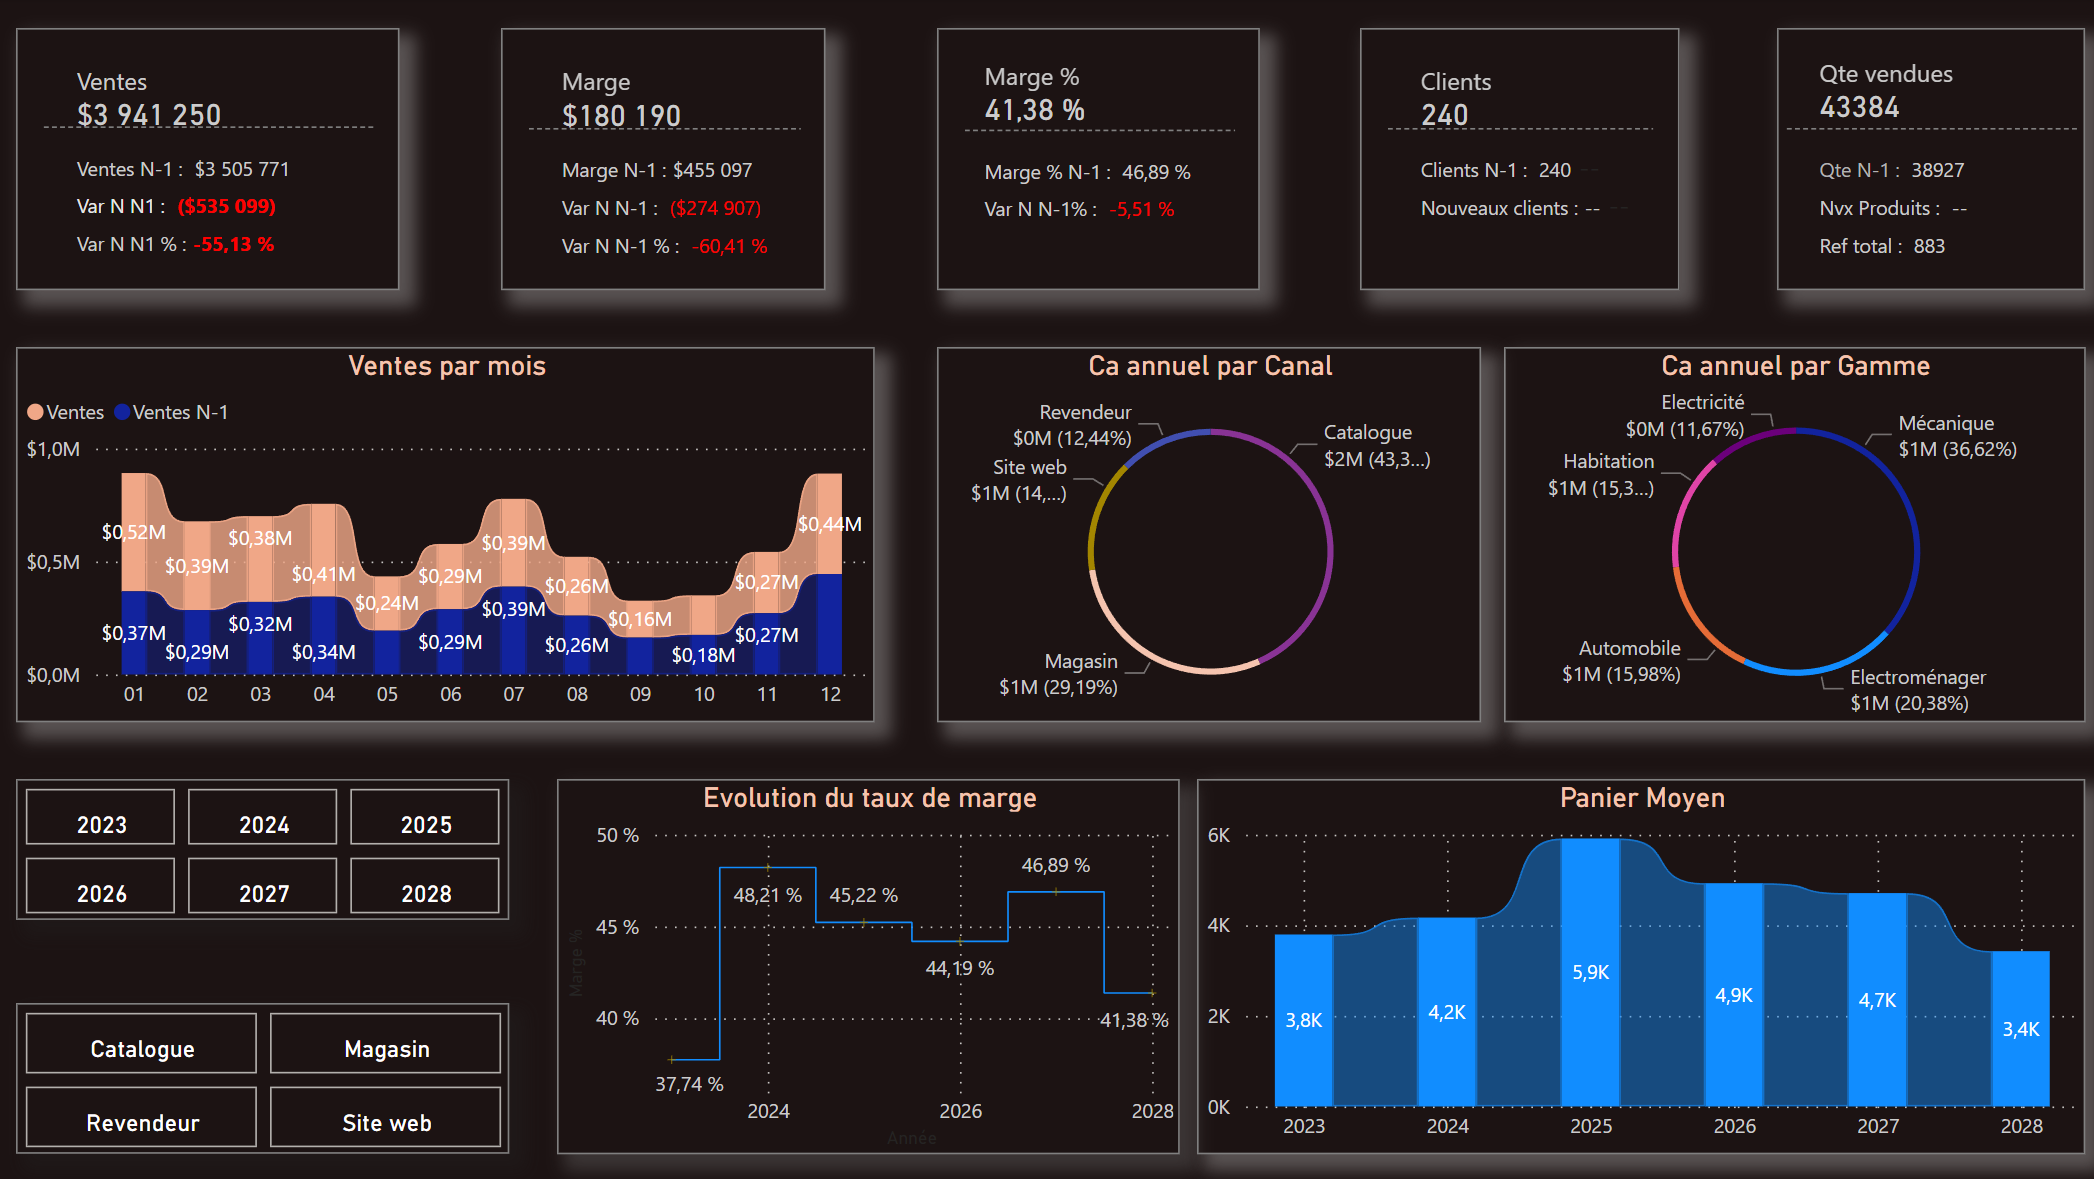

The dashboard page shown, as its layout file describes it:
{"tool":"powerbi","page":{"name":"Doublon de CA General","canvas":[1280,720],"ordinal":0},"visuals":[{"type":"advancedSlicerVisual","fields":{"Values":["Date.Année"]},"box":[11,475.9,301.4,86],"z":0},{"type":"cardVisual","fields":{"Data":["Mesures.Ventes"]},"box":[11,17.7,233.7,160.5],"z":1000},{"type":"ribbonChart","title":"Ventes par mois","fields":{"Y":["Mesures.Ventes","Mesures.Ventes N-1"],"Category":["Date.Mois_Num"]},"box":[11,212.3,524.1,228.8],"z":2000},{"type":"cardVisual","fields":{"Data":["Mesures.Marge YTD"]},"box":[306.9,17.7,198.3,160.5],"z":3000},{"type":"cardVisual","fields":{"Data":["Mesures.Marge % YTD"]},"box":[572.9,17.7,197.1,160.5],"z":4000},{"type":"cardVisual","fields":{"Data":["Mesures.Qte vendues"]},"box":[1085.5,17.7,187.9,160.5],"z":5000},{"type":"donutChart","title":"Ca annuel par Gamme","fields":{"Category":["Gamme.Gamme"],"Y":["Mesures.Ventes"]},"box":[918.9,212.3,354.5,228.8],"z":9000},{"type":"donutChart","title":"Ca annuel par Canal","fields":{"Category":["Canal.Canal"],"Y":["Mesures.Ventes"]},"box":[572.9,212.3,331.9,228.8],"z":10000},{"type":"cardVisual","fields":{"Data":["Mesures.Nb Clients"]},"box":[831.1,17.7,194.6,160.5],"z":11000},{"type":"advancedSlicerVisual","fields":{"Values":["Canal.Canal"]},"box":[11,612.6,301.4,92.1],"z":11001},{"type":"lineChart","title":"Evolution du taux de marge","fields":{"Y":["Mesures.Marge %"],"Category":["Date.Année"]},"box":[341.1,475.9,380.1,228.8],"z":11002},{"type":"ribbonChart","title":"Panier Moyen","fields":{"Y":["Mesures.Panier Moyen"],"Category":["Date.Année"]},"box":[731.6,475.9,541.8,228.8],"z":11003}]}

Visuals, with their boxes in screenshot pixels (x1, y1, x2, y2), scaled from the page's 1280x720 canvas onto the 2094x1179 screenshot:
advancedSlicerVisual - Date.Année: 18 779 511 920
cardVisual - Mesures.Ventes: 18 29 400 292
"Ventes par mois" ribbonChart: 18 348 875 722
cardVisual - Mesures.Marge YTD: 502 29 826 292
cardVisual - Mesures.Marge % YTD: 937 29 1260 292
cardVisual - Mesures.Qte vendues: 1776 29 2083 292
"Ca annuel par Gamme" donutChart: 1503 348 2083 722
"Ca annuel par Canal" donutChart: 937 348 1480 722
cardVisual - Mesures.Nb Clients: 1360 29 1678 292
advancedSlicerVisual - Canal.Canal: 18 1003 511 1154
"Evolution du taux de marge" lineChart: 558 779 1180 1154
"Panier Moyen" ribbonChart: 1197 779 2083 1154
